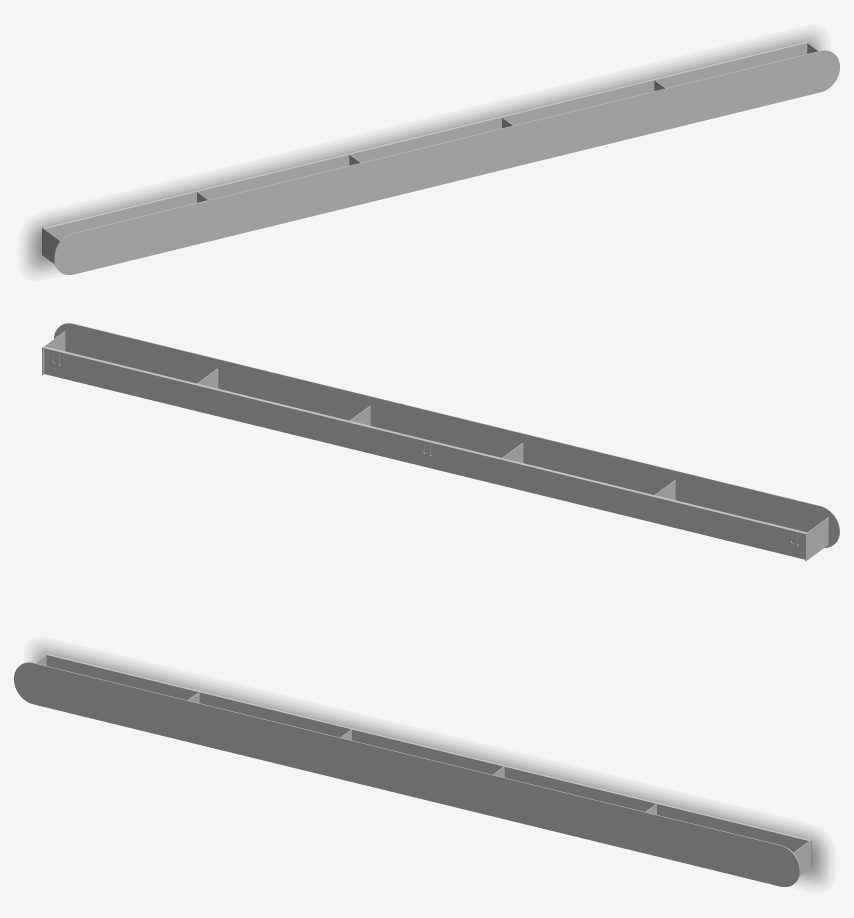
File: round-mono.5305dbb54d.ar.glb
The picture shows the model from 3 angles, top to bottom: view 1: azimuth 30°, elevation 25°; view 2: azimuth 150°, elevation 25°; view 3: azimuth 330°, elevation 25°; orthographic projection.
Visible parts, largest first — view 1: NAUO1, object 2; view 2: NAUO1; view 3: NAUO1, object 2.
Boxes of the visible parts, <box> form: NAUO1: <box>42,41,839,274</box>; object 2: <box>26,34,821,271</box>; NAUO1: <box>42,323,839,561</box>; NAUO1: <box>14,653,811,886</box>; object 2: <box>32,646,827,883</box>.
Size of the model in its own units: 1.88 by 0.17 by 0.092.
2 materials, 1 textured.
